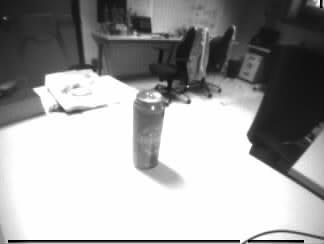Tin can: (133, 92, 164, 169)
